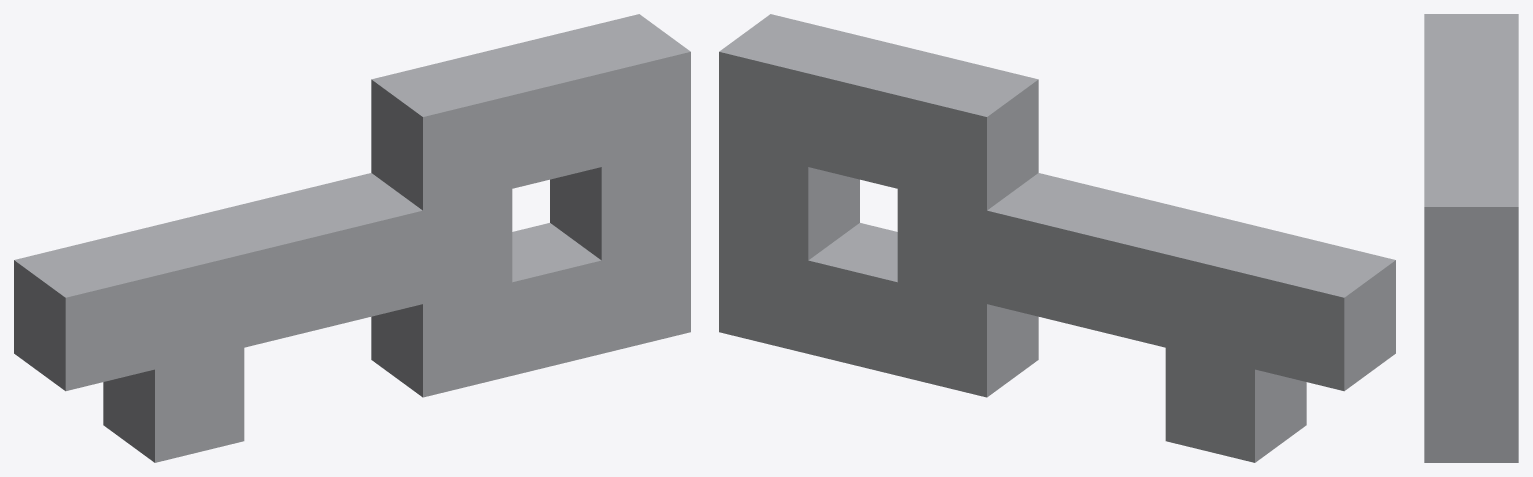
File: Key.dae
The picture shows the model from 3 angles, left to right: view 1: azimuth 30°, elevation 25°; view 2: azimuth 150°, elevation 25°; view 3: azimuth 270°, elevation 25°; orthographic projection. The views are drawn at different scales.
Visible parts, largest first — view 1: Key-local; view 2: Key-local; view 3: Key-local.
Part boxes in pixels (x1,y1,x2,y2): Key-local: (14, 14, 690, 462); Key-local: (719, 14, 1395, 462); Key-local: (1424, 14, 1518, 462).
Bounding box in the file's own units: 7 × 3 × 1.
1 material, 1 textured.
